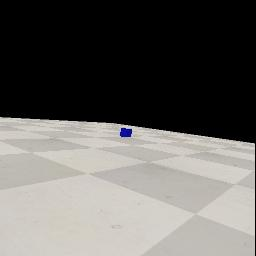box: (120, 128, 132, 137)
